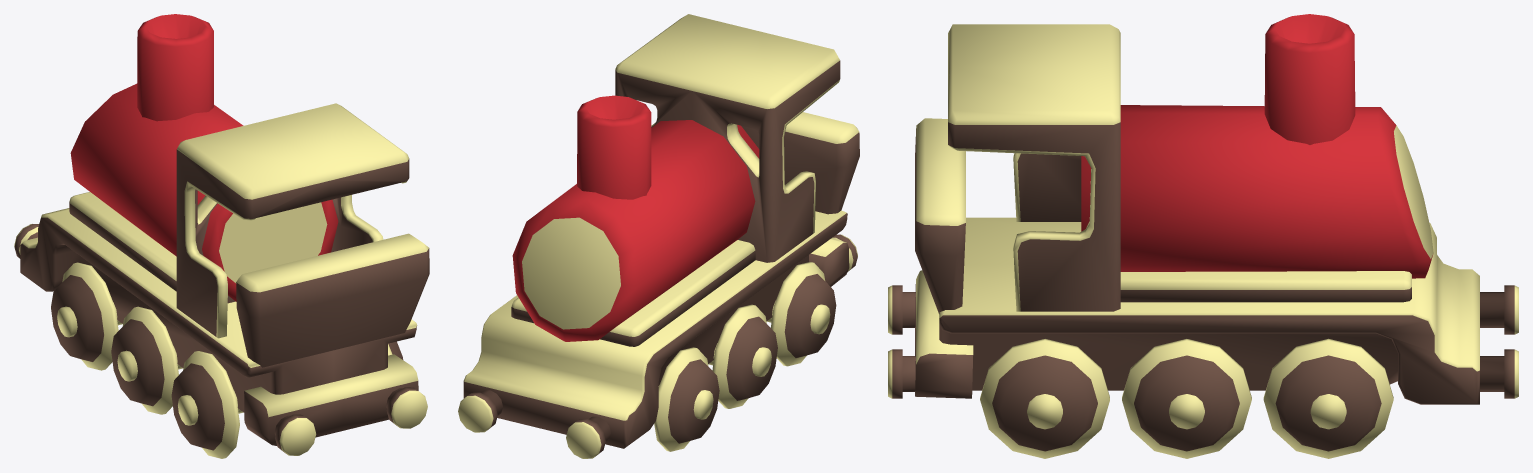
File: train_marzi.fbx
3 renders of one model, left to right at view 1: azimuth 30°, elevation 25°; view 2: azimuth 150°, elevation 25°; view 3: azimuth 270°, elevation 25°, orthographic. The views are drawn at different scales.
Parts seen in each view (by area): view 1: Cube.010; view 2: Cube.010; view 3: Cube.010.
Part boxes in pixels (x1,y1,x2,y2): Cube.010: (14, 14, 429, 458); Cube.010: (458, 14, 859, 458); Cube.010: (888, 14, 1518, 458).
Bounding box in the file's own units: 676 × 1026 × 1527.
